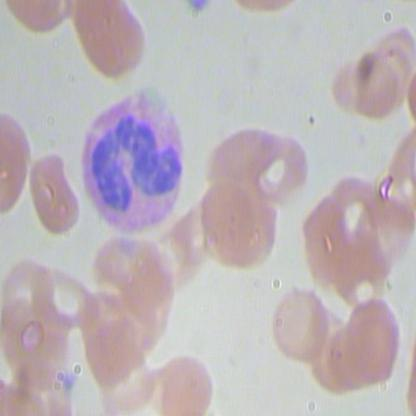RBC: (193, 174, 278, 273), (57, 1, 154, 81), (341, 288, 408, 387), (300, 302, 367, 401), (267, 273, 333, 373), (27, 137, 82, 243), (107, 246, 176, 326), (242, 130, 309, 211), (208, 115, 275, 196), (81, 317, 157, 388), (320, 170, 387, 250), (86, 345, 162, 415), (148, 345, 223, 415), (346, 42, 400, 123), (150, 218, 206, 291), (1, 106, 36, 221)
WBC: (70, 84, 192, 231)
